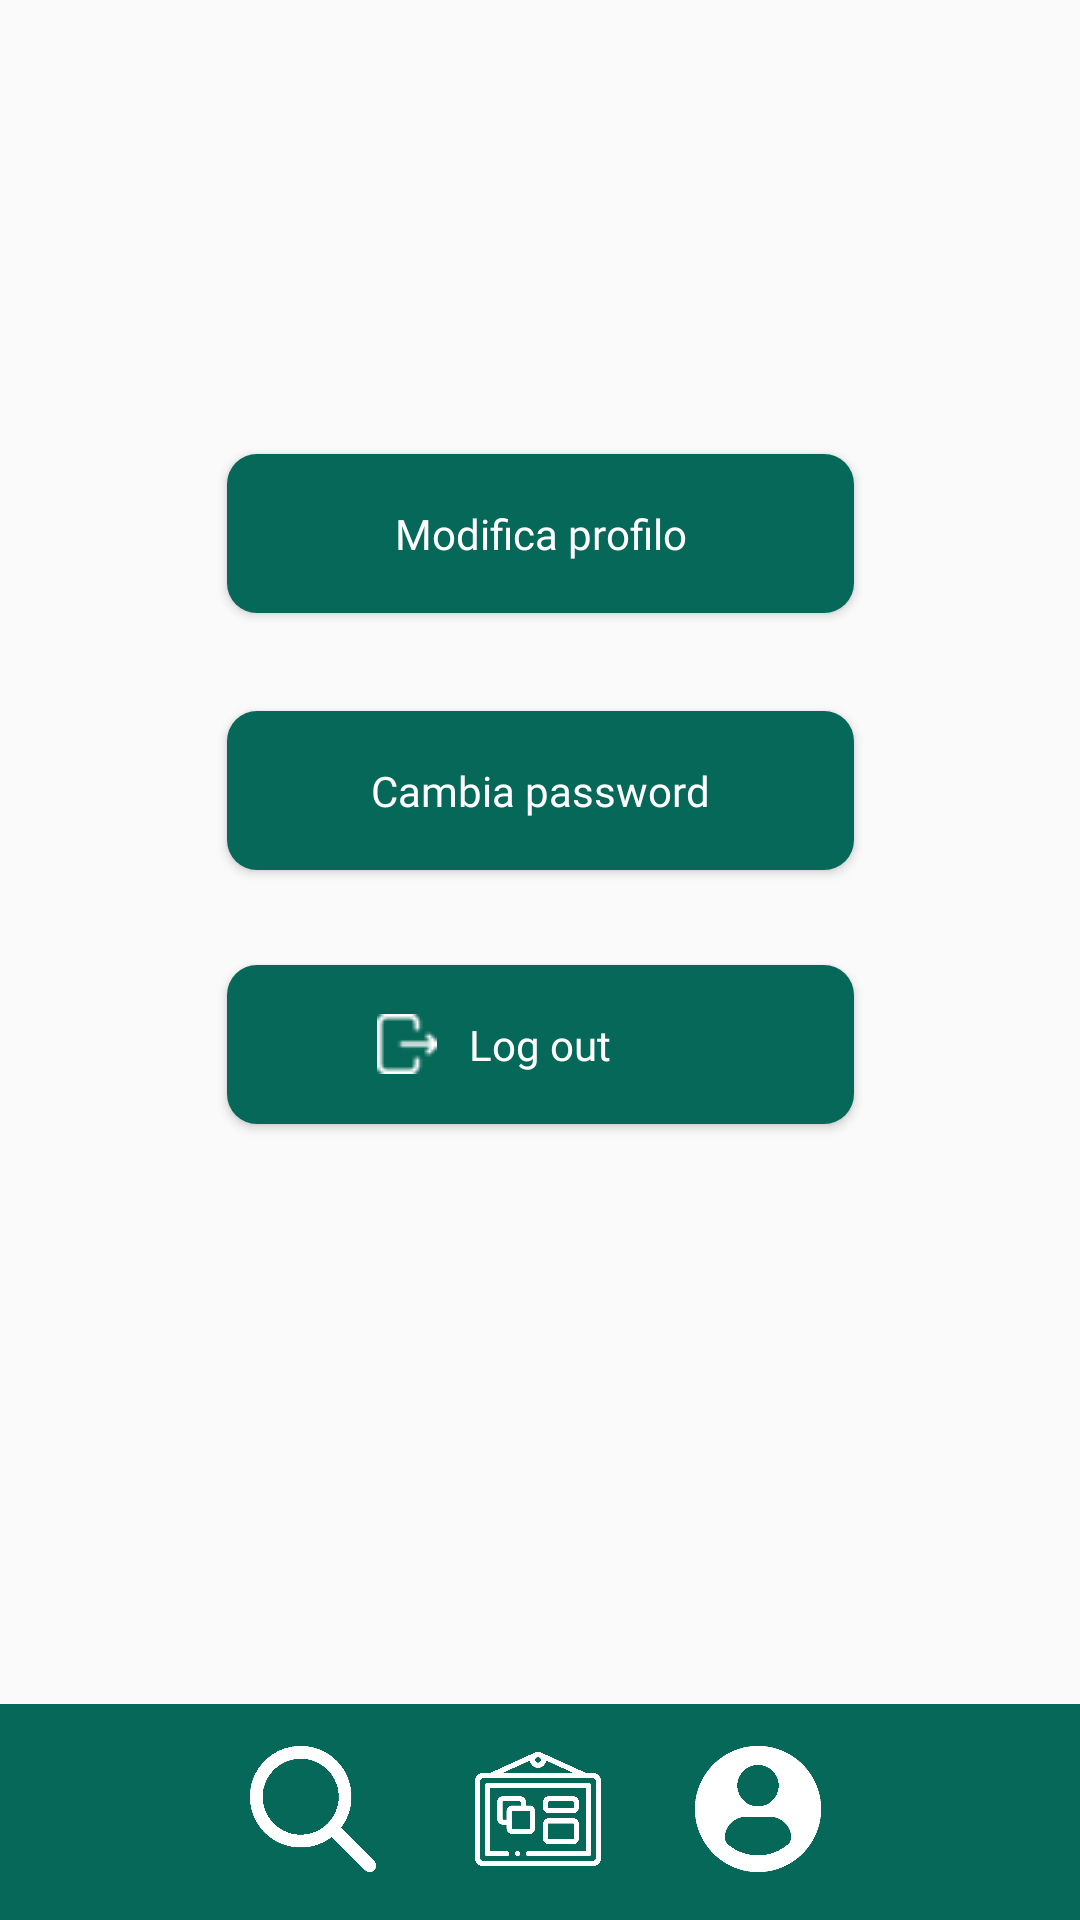

Icon bounding boxes for this 1080px x 1920px phone screenshot, format (x1, y1, x2, y2):
boardwhite: (475, 1752, 601, 1866)
profile: (695, 1746, 821, 1872)
searchwhite: (250, 1746, 376, 1872)
